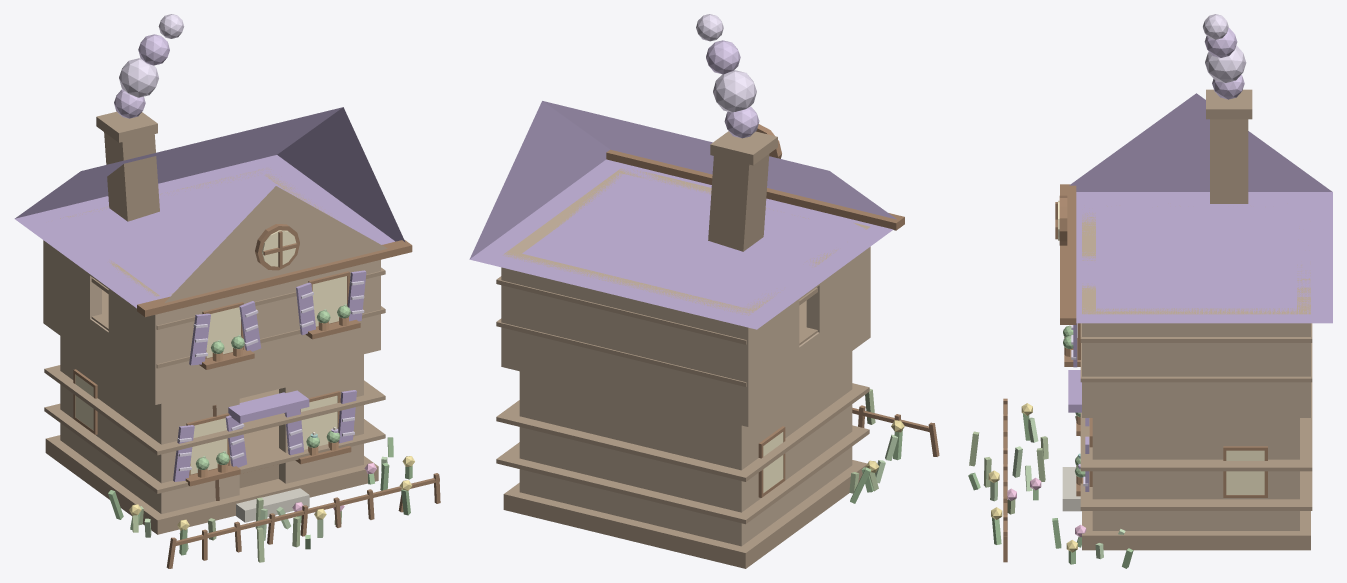
The model's file is kouzelnicin_dum.glb.
3 views of the same model, side by side, from view 1: azimuth 30°, elevation 25°; view 2: azimuth 150°, elevation 25°; view 3: azimuth 270°, elevation 25° (orthographic). The views are drawn at different scales.
Visible parts, largest first — view 1: KouzelnicinDum_mud, KouzelnicinDum_purple2, KouzelnicinDum_mud2, KouzelnicinDum_wood2, KouzelnicinDum_candle, KouzelnicinDum_lilac, KouzelnicinDum_green2, KouzelnicinDum_purple, KouzelnicinDum_stone2, KouzelnicinDum_moss, KouzelnicinDum_rust, KouzelnicinDum_green (+1 smaller); view 2: KouzelnicinDum_mud, KouzelnicinDum_purple2, KouzelnicinDum_mud2, KouzelnicinDum_wood2, KouzelnicinDum_lilac, KouzelnicinDum_purple, KouzelnicinDum_candle, KouzelnicinDum_green2; view 3: KouzelnicinDum_purple2, KouzelnicinDum_mud, KouzelnicinDum_mud2, KouzelnicinDum_wood2, KouzelnicinDum_lilac, KouzelnicinDum_candle, KouzelnicinDum_green2, KouzelnicinDum_purple, KouzelnicinDum_green, KouzelnicinDum_moss, KouzelnicinDum_stone2, KouzelnicinDum_yellow.
Boxes of the visible parts, x1,y1,x2,y2 form: KouzelnicinDum_mud: (43, 168, 387, 513); KouzelnicinDum_purple2: (14, 107, 405, 481); KouzelnicinDum_mud2: (44, 111, 385, 534); KouzelnicinDum_wood2: (73, 224, 440, 568); KouzelnicinDum_candle: (75, 230, 346, 474); KouzelnicinDum_lilac: (119, 14, 364, 471); KouzelnicinDum_green2: (108, 305, 412, 555); KouzelnicinDum_purple: (114, 34, 338, 432); KouzelnicinDum_stone2: (236, 488, 309, 522); KouzelnicinDum_moss: (132, 497, 341, 562); KouzelnicinDum_rust: (197, 317, 348, 477); KouzelnicinDum_green: (144, 304, 387, 551); KouzelnicinDum_mud: (501, 168, 870, 546); KouzelnicinDum_purple2: (469, 101, 896, 329); KouzelnicinDum_mud2: (496, 131, 869, 568); KouzelnicinDum_wood2: (606, 124, 939, 497); KouzelnicinDum_lilac: (696, 14, 756, 112); KouzelnicinDum_purple: (706, 40, 759, 138); KouzelnicinDum_candle: (763, 432, 783, 492); KouzelnicinDum_green2: (850, 430, 902, 503); KouzelnicinDum_purple2: (1068, 93, 1332, 491); KouzelnicinDum_mud: (1082, 206, 1310, 530); KouzelnicinDum_mud2: (1080, 89, 1312, 550); KouzelnicinDum_wood2: (1003, 184, 1267, 562); KouzelnicinDum_lilac: (1071, 14, 1246, 486); KouzelnicinDum_candle: (1058, 200, 1264, 494); KouzelnicinDum_green2: (968, 325, 1133, 568); KouzelnicinDum_purple: (1078, 28, 1244, 477); KouzelnicinDum_green: (990, 326, 1125, 559); KouzelnicinDum_moss: (969, 431, 1048, 514); KouzelnicinDum_stone2: (1062, 467, 1081, 511); KouzelnicinDum_yellow: (988, 403, 1077, 552).
Bounding box in the file's own units: 6.22 × 9.4 × 6.69.
